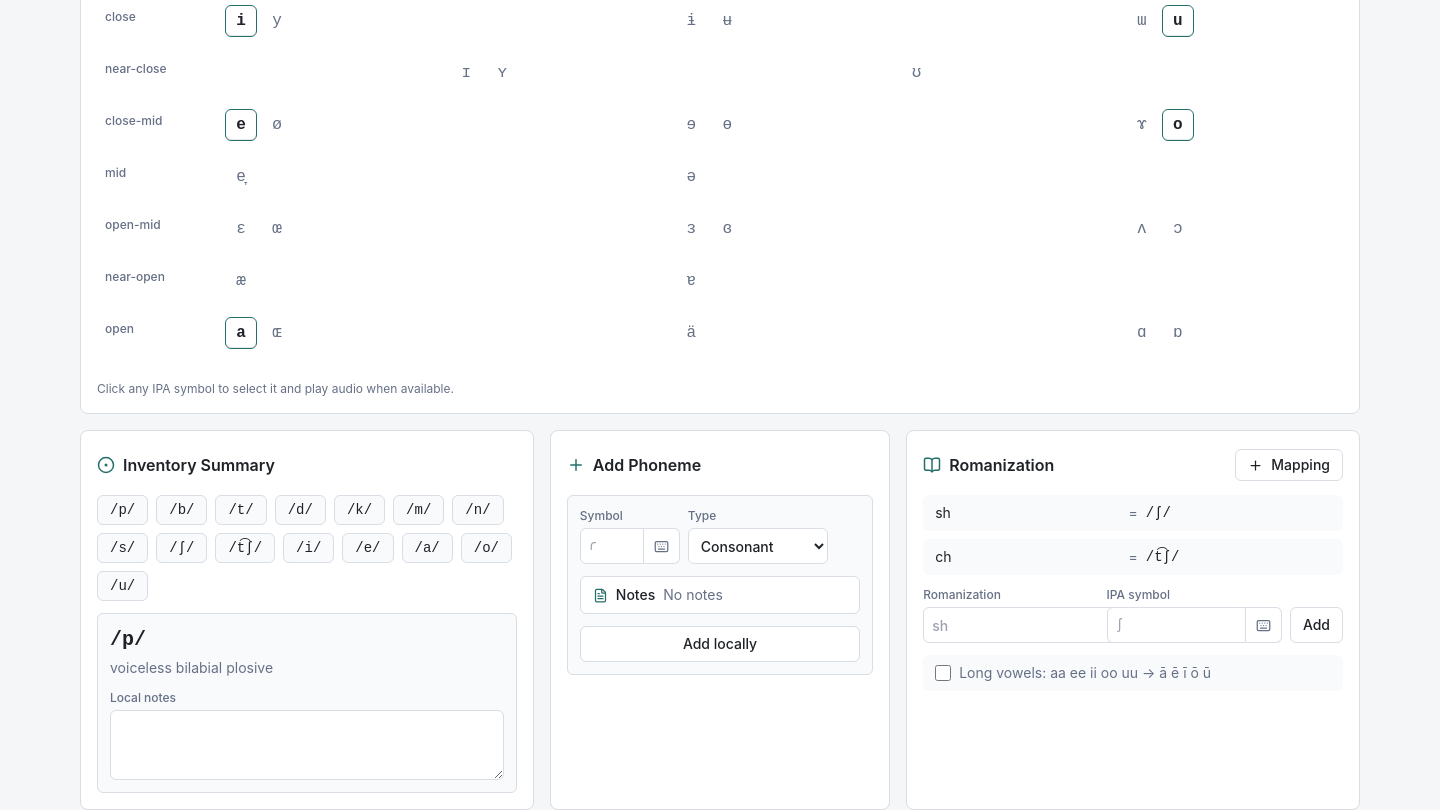
Scenario: PhonologyWorkbench › replaces long vowels in-place inside the romanization box
(page scrolled)
Type "ee" into the field named "Latin mapping" at {"x": 1042, "y": 625}, box left=923, top=607, right=1160, bottom=643
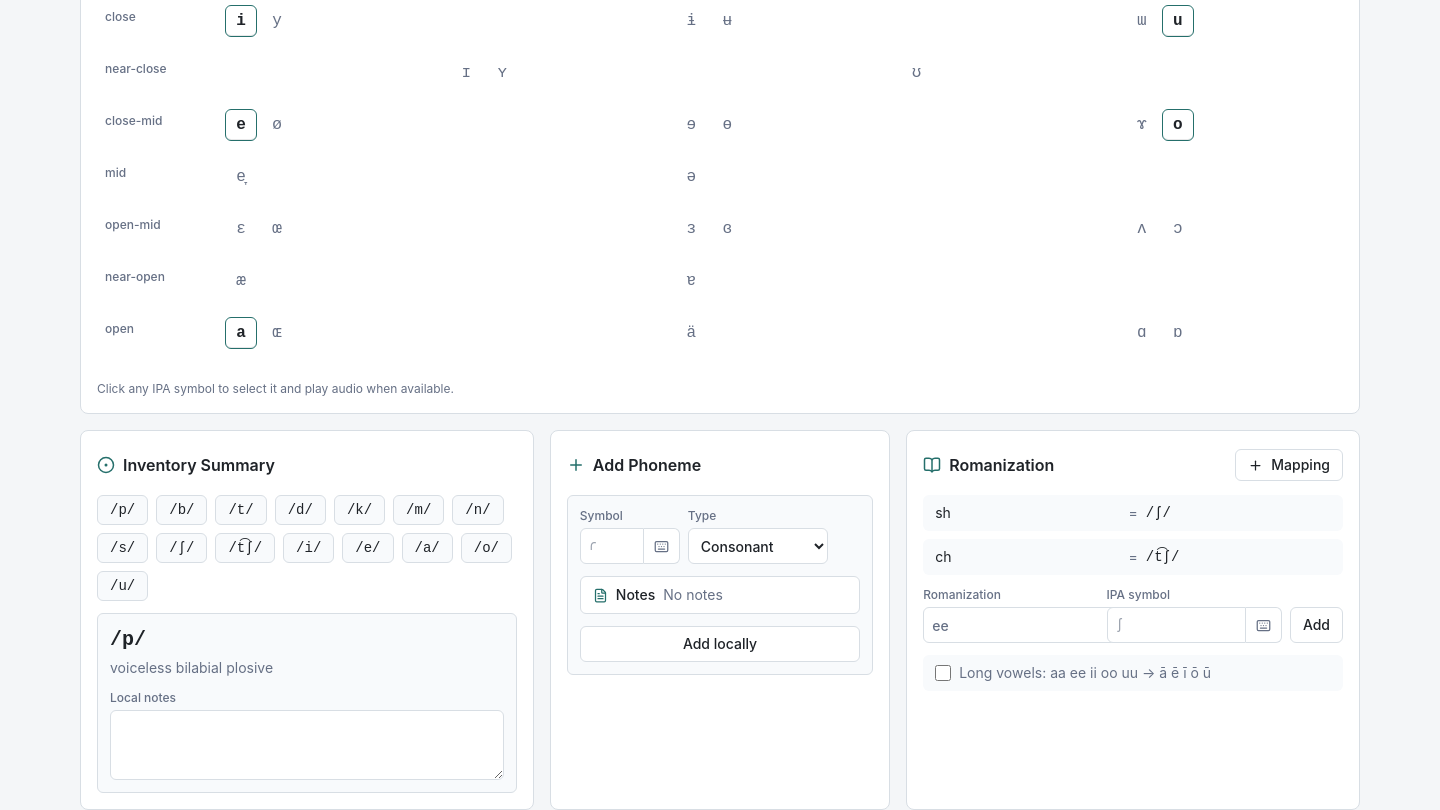
Click the checkbox labelled "Long vowels: aa ee ii oo uu -> ā ē ī ō ū" at {"x": 943, "y": 673}, box left=935, top=665, right=951, bottom=681
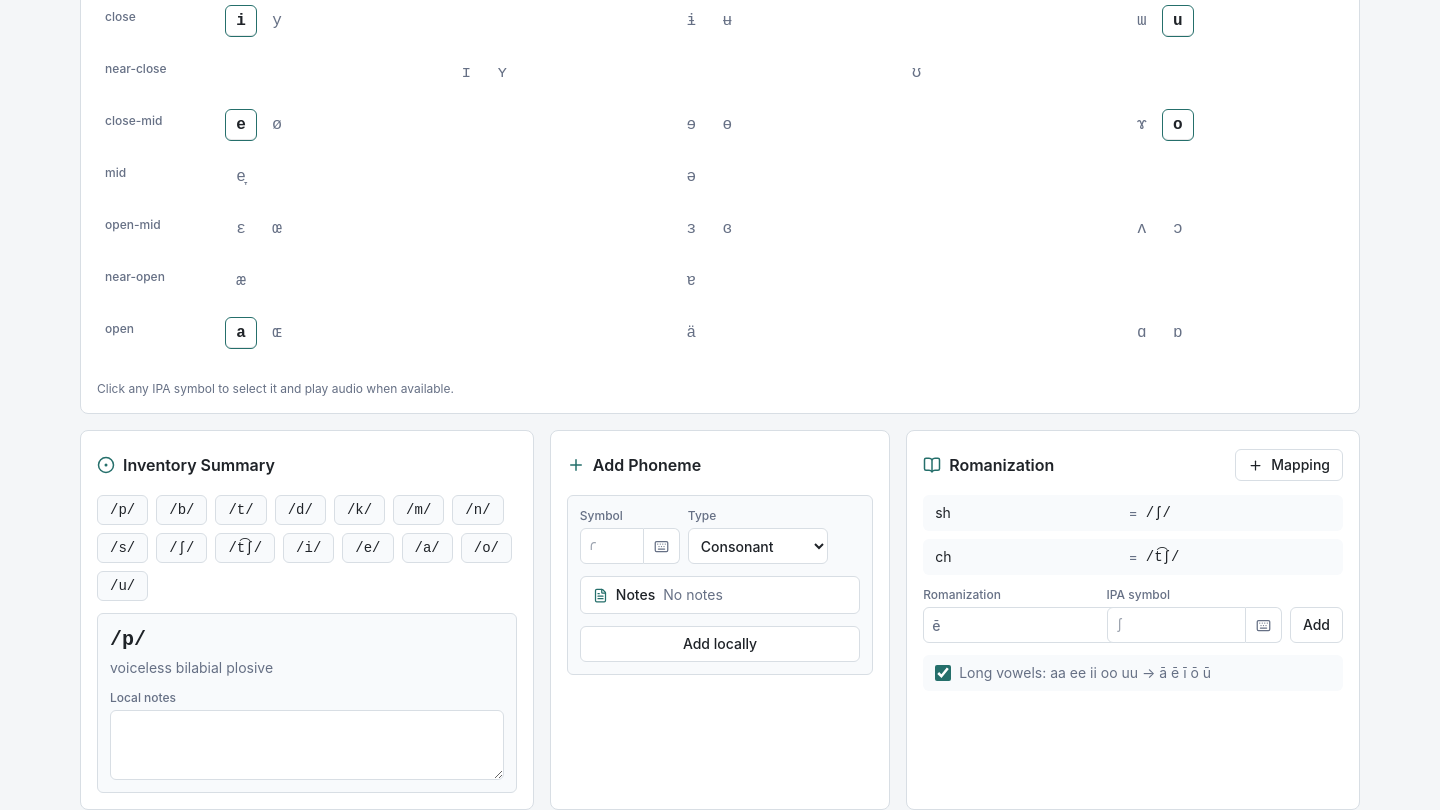
Check: the field named "Latin mapping" holds "ē"
Replace the text in the field named "Latin mapping" with "aa" at {"x": 1042, "y": 625}, box left=923, top=607, right=1160, bottom=643
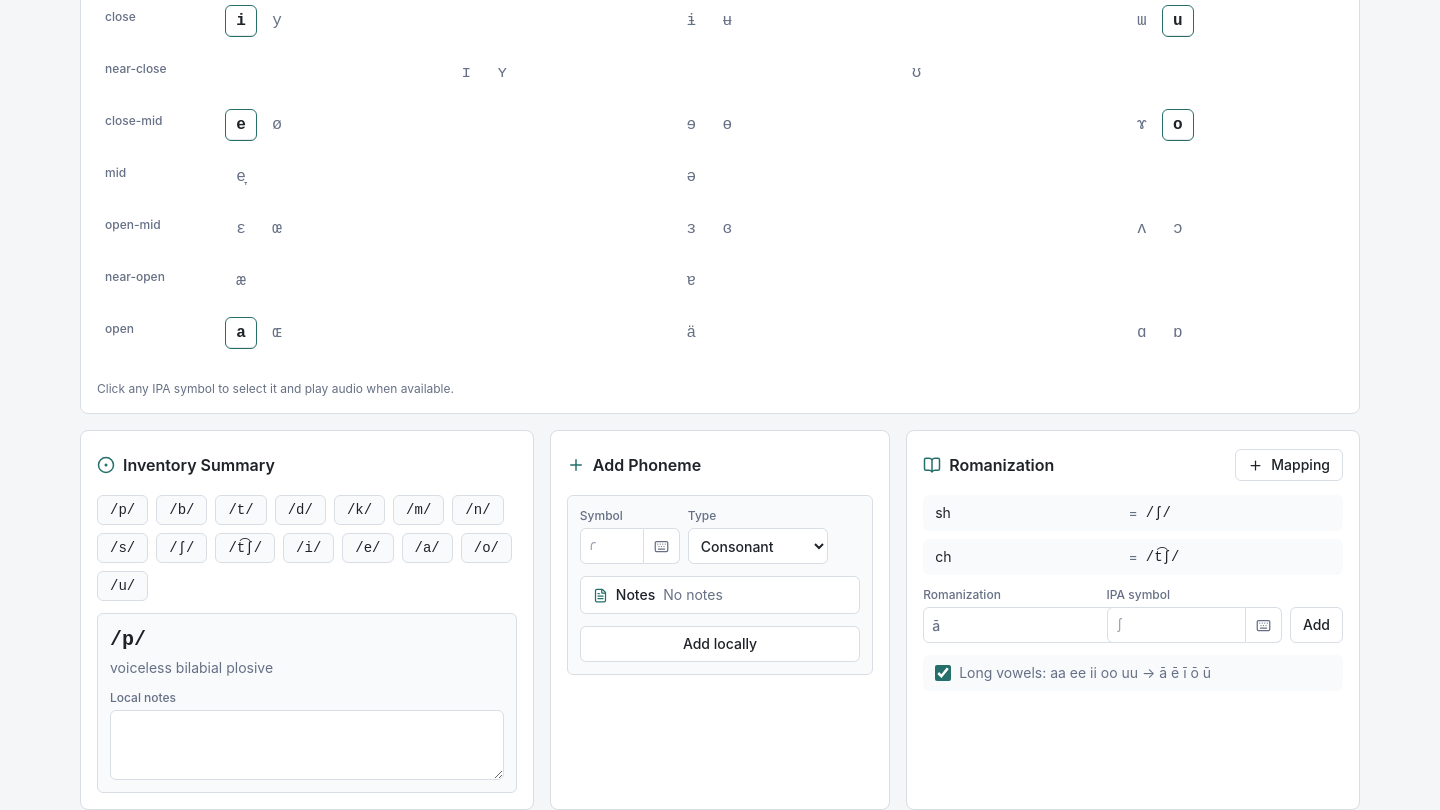
Check: the field named "Latin mapping" holds "ā", box left=923, top=607, right=1160, bottom=643
